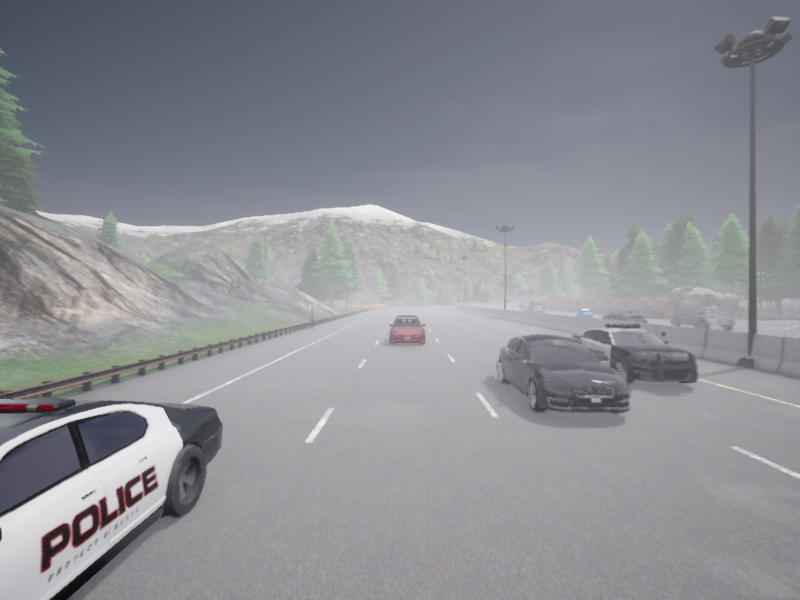vehicle: (0, 399, 222, 599), (497, 334, 630, 412), (571, 323, 697, 383), (672, 309, 735, 329), (389, 315, 425, 344), (599, 311, 646, 322), (522, 300, 545, 312), (576, 309, 592, 317), (519, 303, 523, 309)
